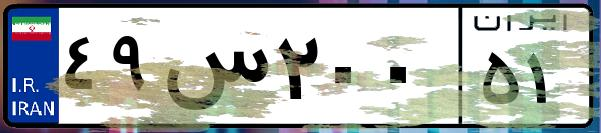0: (385, 28, 445, 110), (330, 28, 385, 110)
1: (525, 38, 570, 115)
2: (270, 28, 330, 110)
4: (57, 26, 110, 100)
5: (475, 38, 525, 113)
9: (110, 28, 158, 98)
س: (158, 20, 270, 120)
